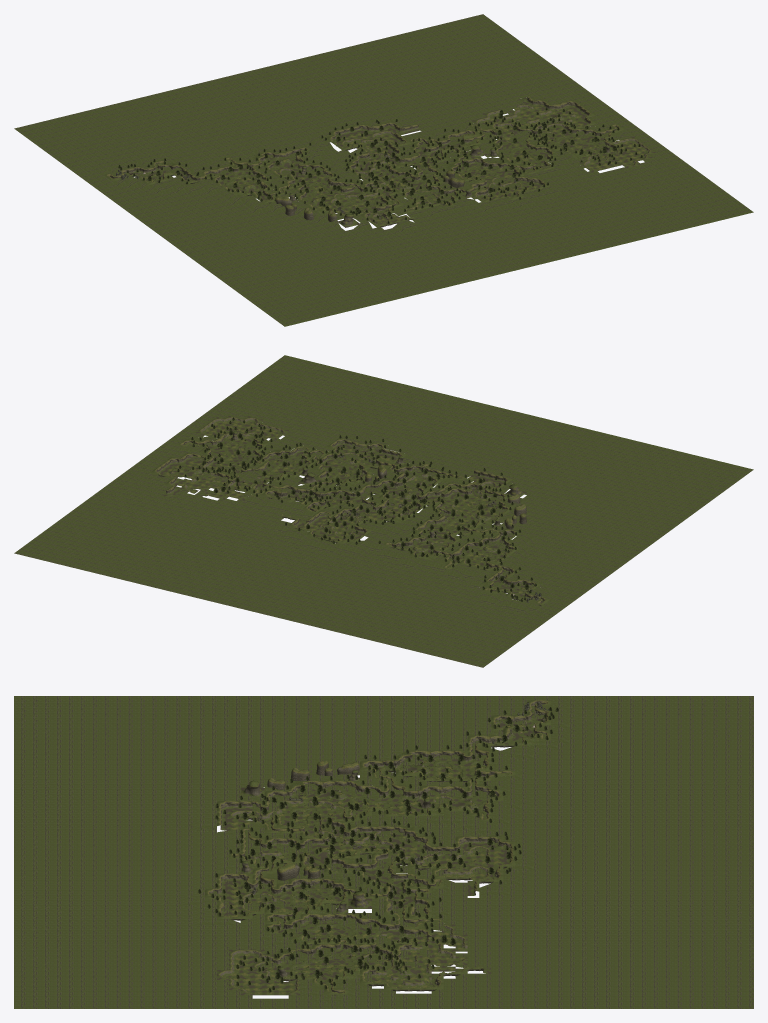
The model's file is map_F03_01.glb.
3 renders of one model, top to bottom at view 1: azimuth 30°, elevation 25°; view 2: azimuth 150°, elevation 25°; view 3: azimuth 270°, elevation 25°, orthographic. The views are drawn at different scales.
Parts seen in each view (by area): view 1: default_ground; view 2: default_ground; view 3: default_ground.
Part boxes in pixels (bbox=[...]): default_ground: bbox=[14, 14, 753, 326]; default_ground: bbox=[14, 355, 753, 667]; default_ground: bbox=[14, 696, 753, 1008].
Bounding box in the file's own units: 2232 × 57.35 × 2232.
Materials: 296 (296 with a texture image).
